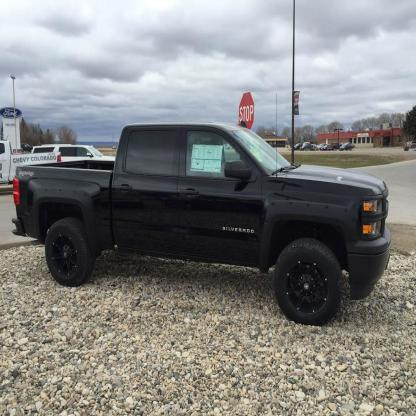Car: (13, 126, 390, 324), (29, 147, 115, 158), (292, 140, 354, 150)
Truck: (11, 123, 388, 324), (0, 141, 60, 182)
